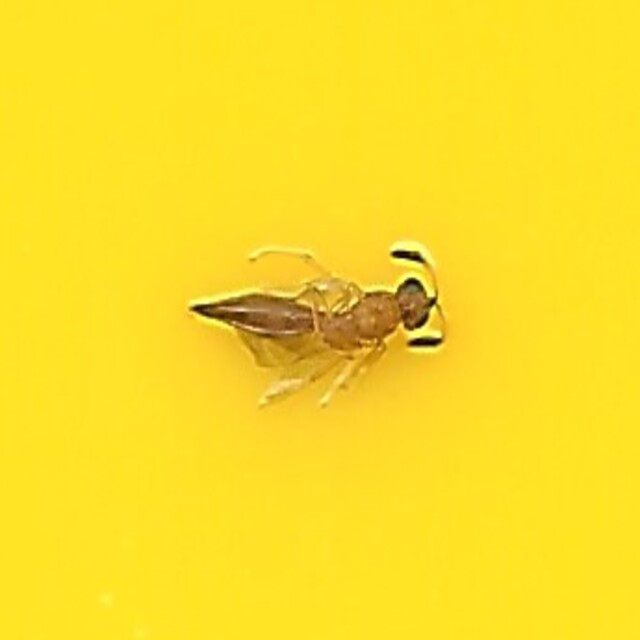Hymenoptera: (186, 242, 454, 398)
